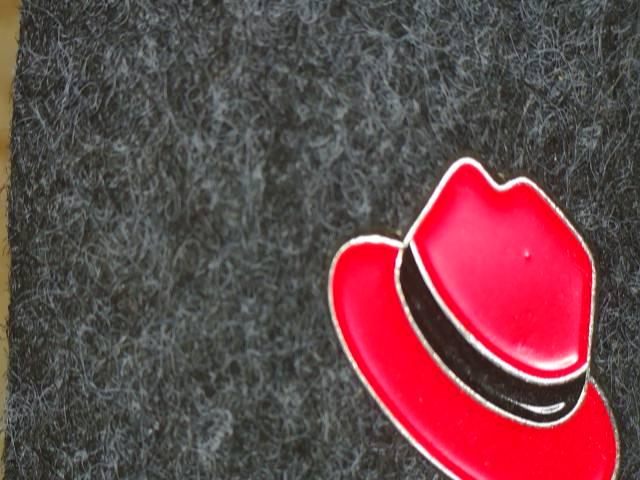Red-Hat: (292, 125, 640, 480)
